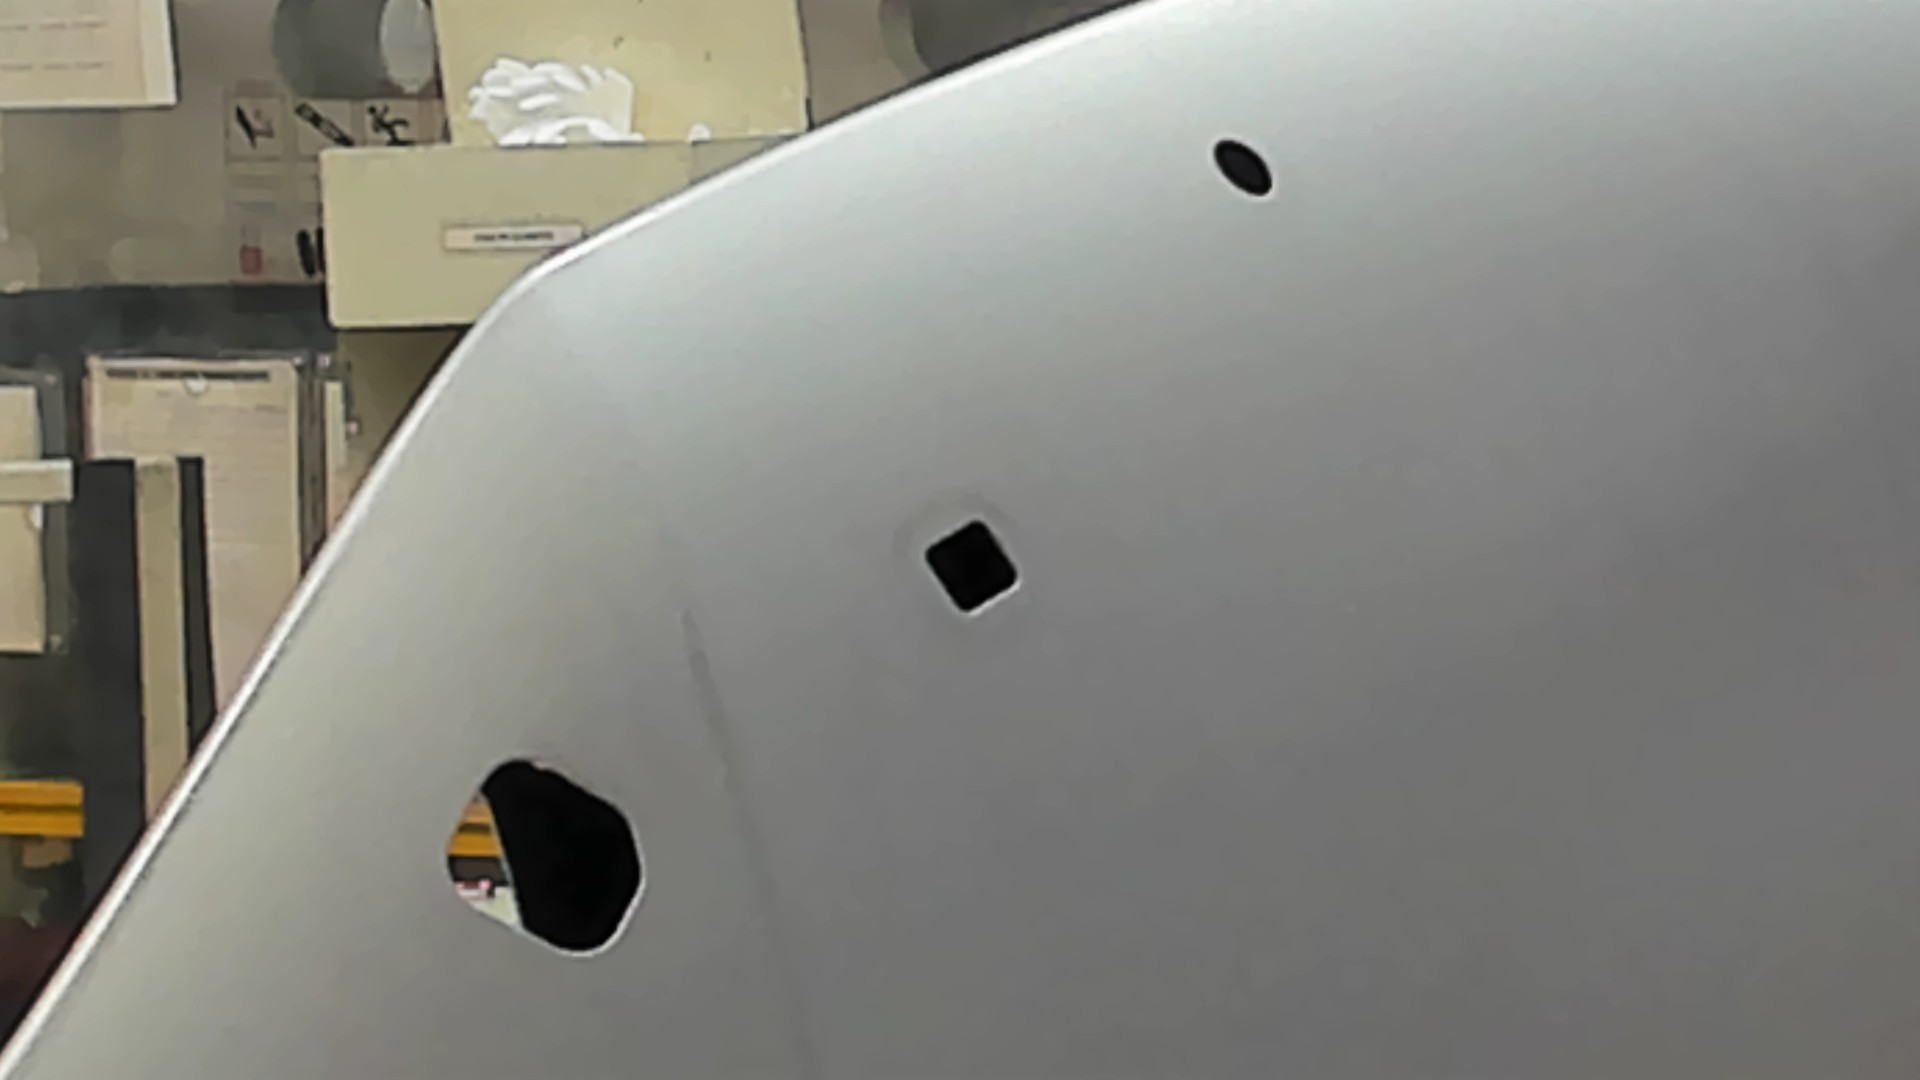Agujero: (922, 517, 1021, 617), (1212, 137, 1276, 199)
Agujerote: (440, 756, 647, 959)
